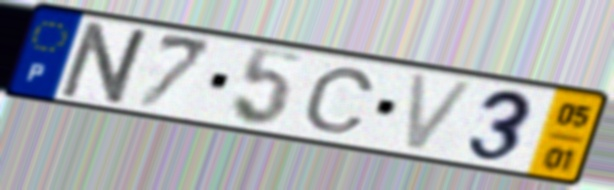3: (462, 86, 545, 168)
5: (230, 46, 306, 130)
7: (136, 29, 218, 114)
C: (299, 65, 379, 135)
N: (54, 18, 159, 109)
V: (401, 69, 482, 155)
